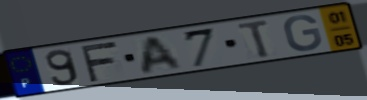7: (181, 27, 220, 69)
9: (44, 48, 80, 87)
A: (140, 34, 185, 76)
F: (77, 39, 120, 84)
G: (282, 14, 325, 52)
T: (236, 18, 274, 60)
